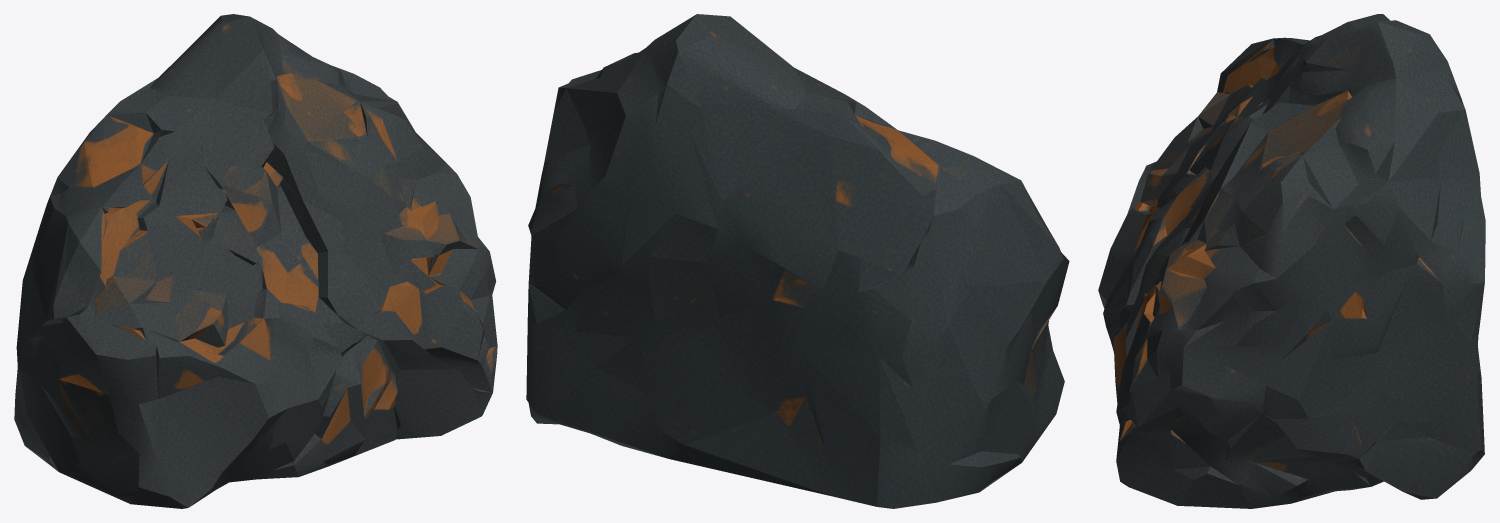
File: iron.glb
The picture shows the model from 3 angles, left to right: view 1: azimuth 30°, elevation 25°; view 2: azimuth 150°, elevation 25°; view 3: azimuth 270°, elevation 25°; orthographic projection. The views are drawn at different scales.
Size of the model in its own units: 1.9 by 1.59 by 1.34.
Materials: 1 (1 with a texture image).
